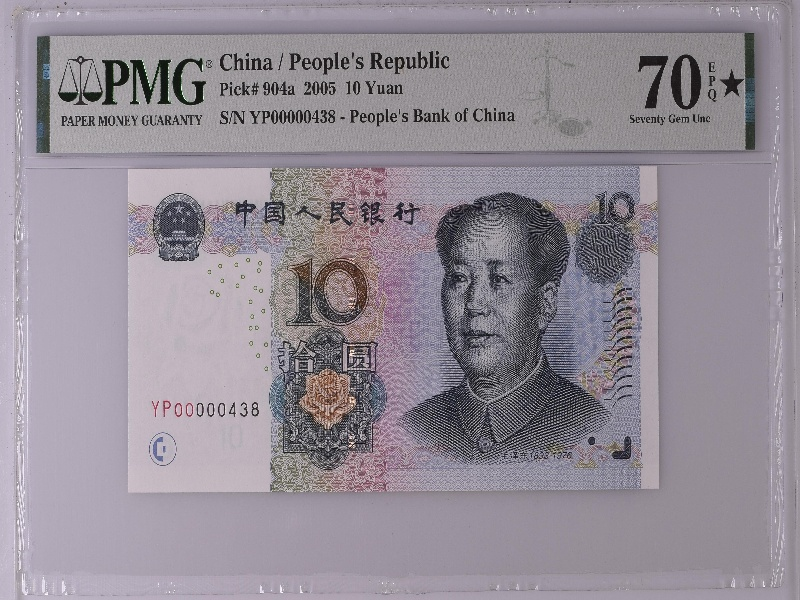papernote: (124, 165, 663, 493)
